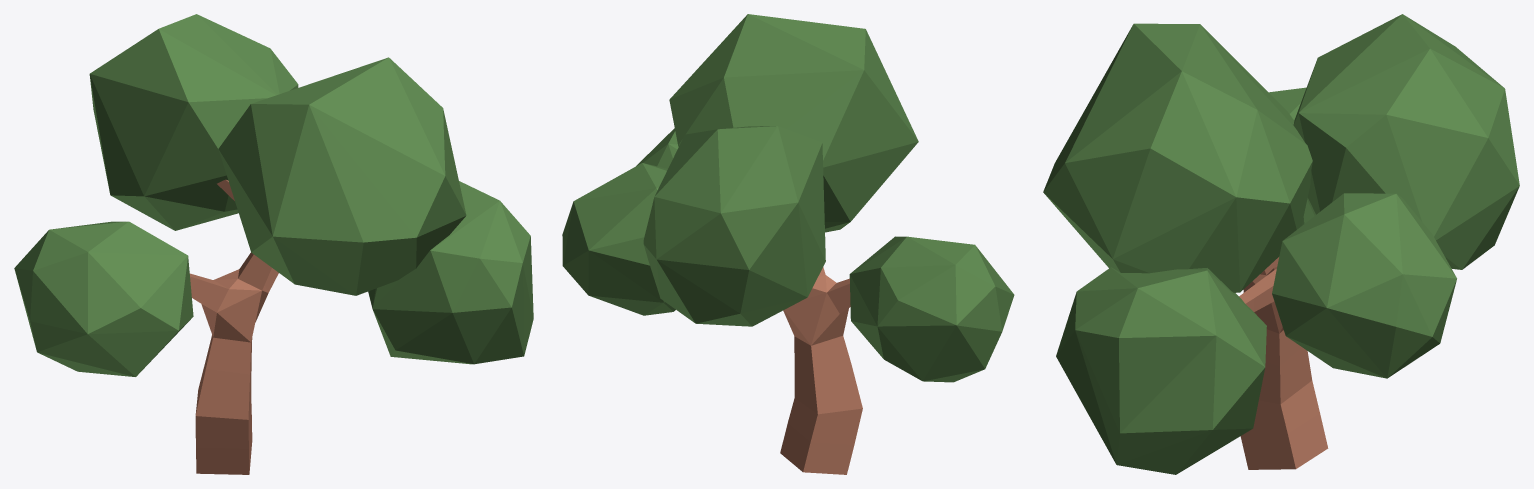
File: Lifeleaf Tree.fbx
3 views of the same model, side by side, from view 1: azimuth 30°, elevation 25°; view 2: azimuth 150°, elevation 25°; view 3: azimuth 270°, elevation 25° (orthographic). The views are drawn at different scales.
Visible parts, largest first — view 1: Lifeleaf (daun 1), Lifeleaf (daun 2), Lifeleaf (daun 3), Lifeleaf (daun 5), Cube.027; view 2: Lifeleaf (daun 2), Lifeleaf (daun 1), Lifeleaf (daun 3), Cube.027, Lifeleaf (daun 4), Lifeleaf (daun 5); view 3: Lifeleaf (daun 1), Lifeleaf (daun 2), Lifeleaf (daun 5), Lifeleaf (daun 4), Cube.027, Lifeleaf (daun 3).
Part boxes in pixels (x1,y1,x2,y2): Lifeleaf (daun 1): (218, 57, 466, 295); Lifeleaf (daun 2): (89, 14, 298, 230); Lifeleaf (daun 3): (14, 221, 193, 376); Lifeleaf (daun 5): (368, 181, 533, 364); Cube.027: (189, 179, 278, 474); Lifeleaf (daun 2): (643, 126, 825, 326); Lifeleaf (daun 1): (669, 14, 918, 232); Lifeleaf (daun 3): (849, 236, 1014, 382); Cube.027: (780, 267, 862, 474); Lifeleaf (daun 4): (562, 163, 675, 315); Lifeleaf (daun 5): (636, 128, 678, 168); Lifeleaf (daun 1): (1043, 23, 1312, 292); Lifeleaf (daun 2): (1293, 14, 1519, 269); Lifeleaf (daun 5): (1056, 267, 1266, 474); Lifeleaf (daun 4): (1272, 193, 1456, 378); Cube.027: (1239, 257, 1328, 469); Lifeleaf (daun 3): (1269, 87, 1314, 225).
Bounding box in the file's own units: 785 × 709 × 668.
